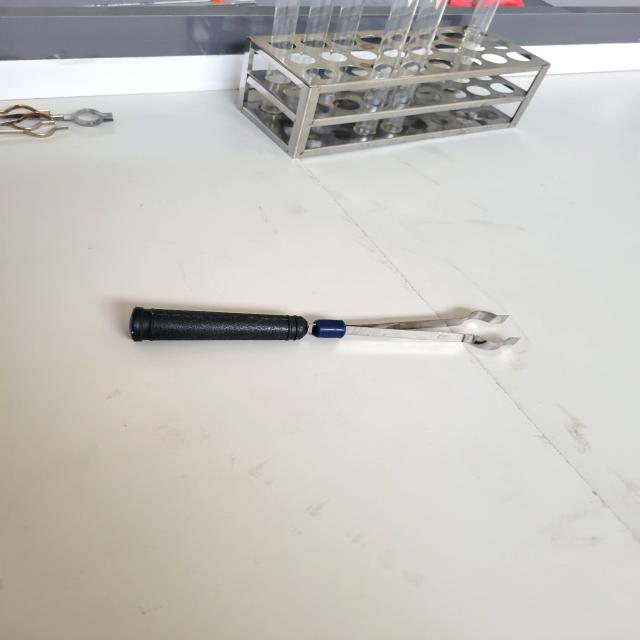TestTube_Holder: (108, 279, 522, 387)
